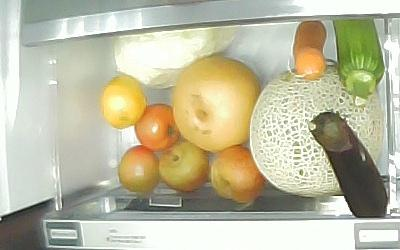cabbage: (114, 25, 243, 87)
carrot: (291, 21, 328, 79)
eggplant: (307, 111, 390, 218)
melon: (249, 67, 384, 199)
pear: (171, 53, 263, 152)
prune: (209, 144, 265, 202), (158, 141, 210, 195), (116, 144, 162, 196)
tangerine: (101, 77, 147, 130)
tomato: (133, 103, 182, 151)
zucchini: (331, 19, 385, 108)
